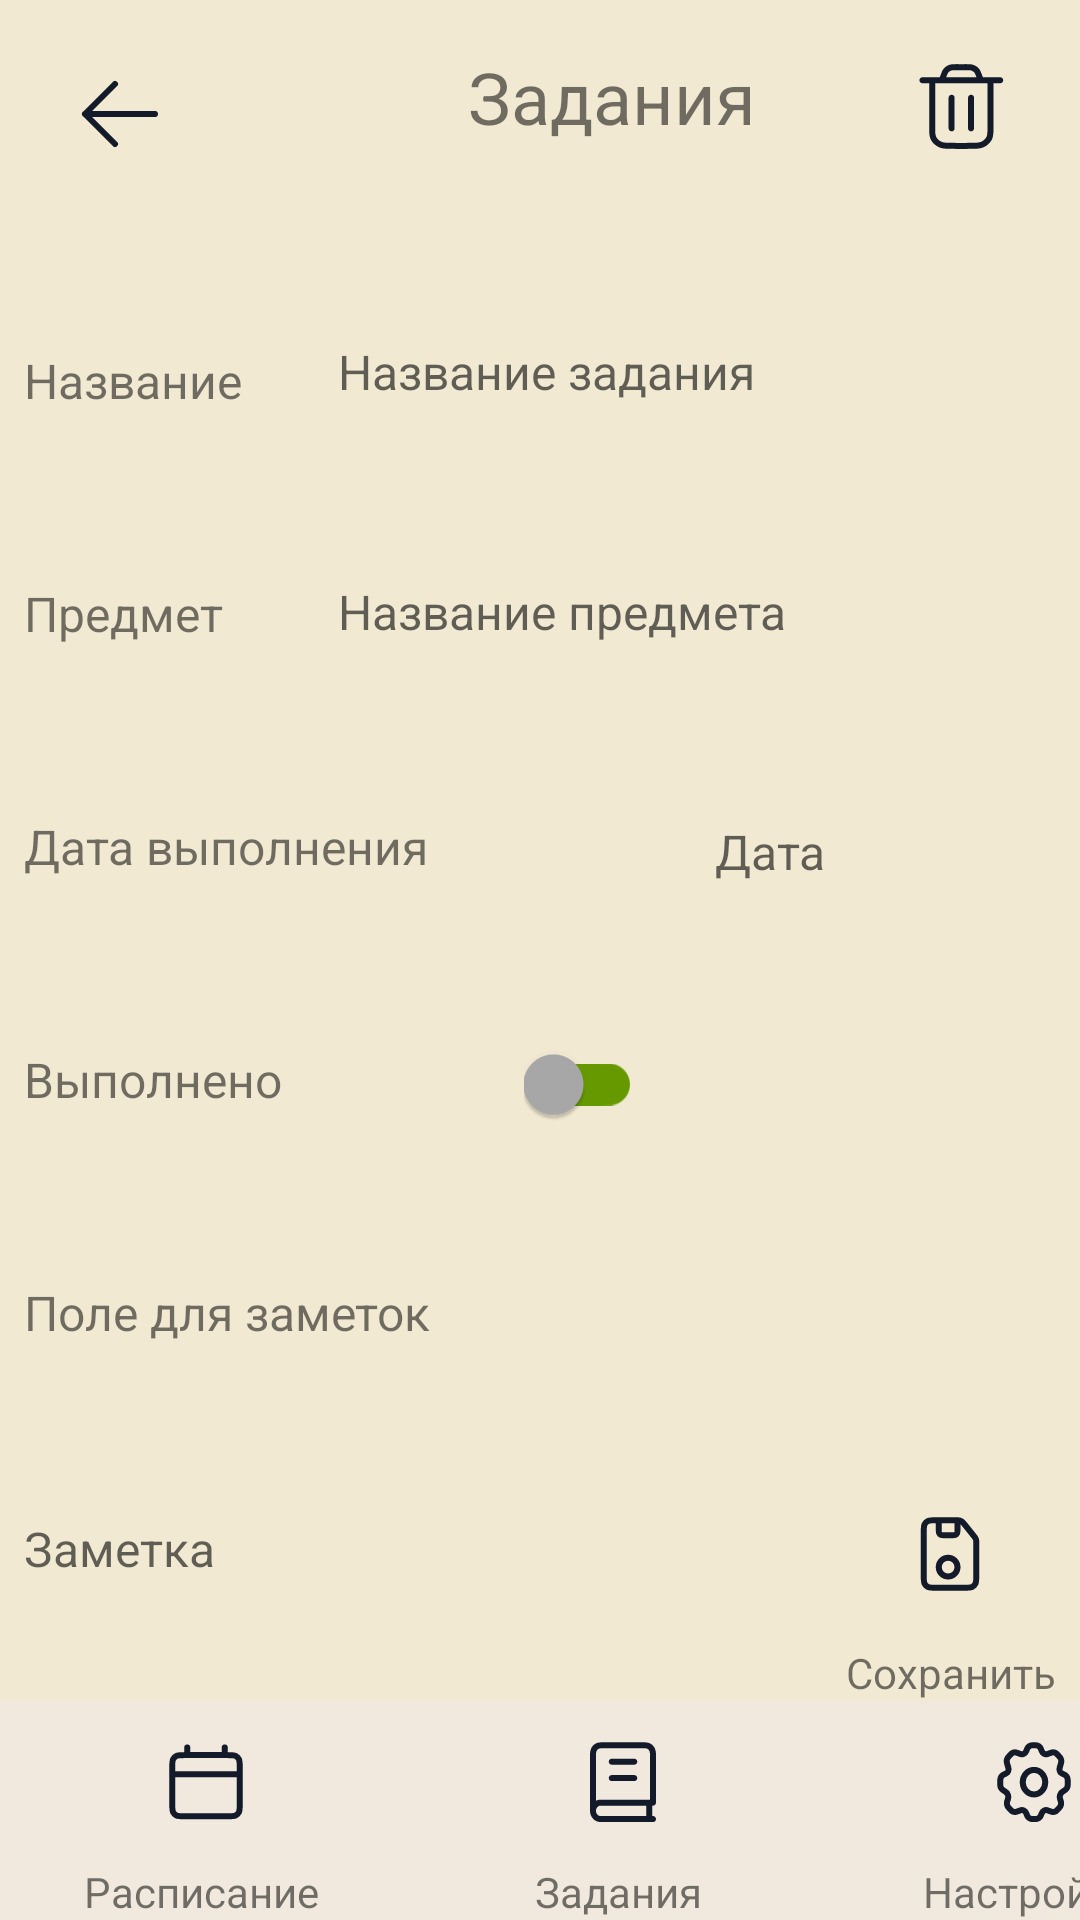

Named icons in this screenshot (1080w x 1920h) and their bounding boxes, box(x1, y1, x2, y2):
arrow left: box(82, 81, 158, 147)
book: box(590, 1742, 656, 1822)
calendar: box(169, 1744, 243, 1820)
floppy disk: box(920, 1517, 980, 1591)
trash: box(919, 64, 1004, 149)
